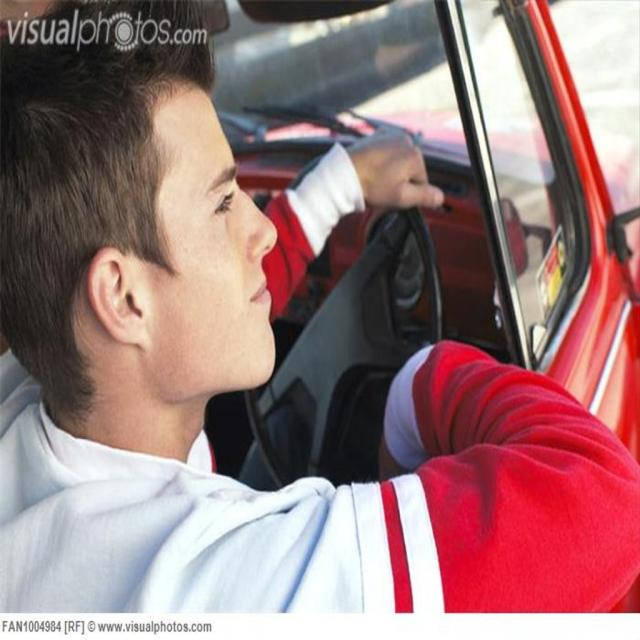Face: (149, 71, 296, 416)
